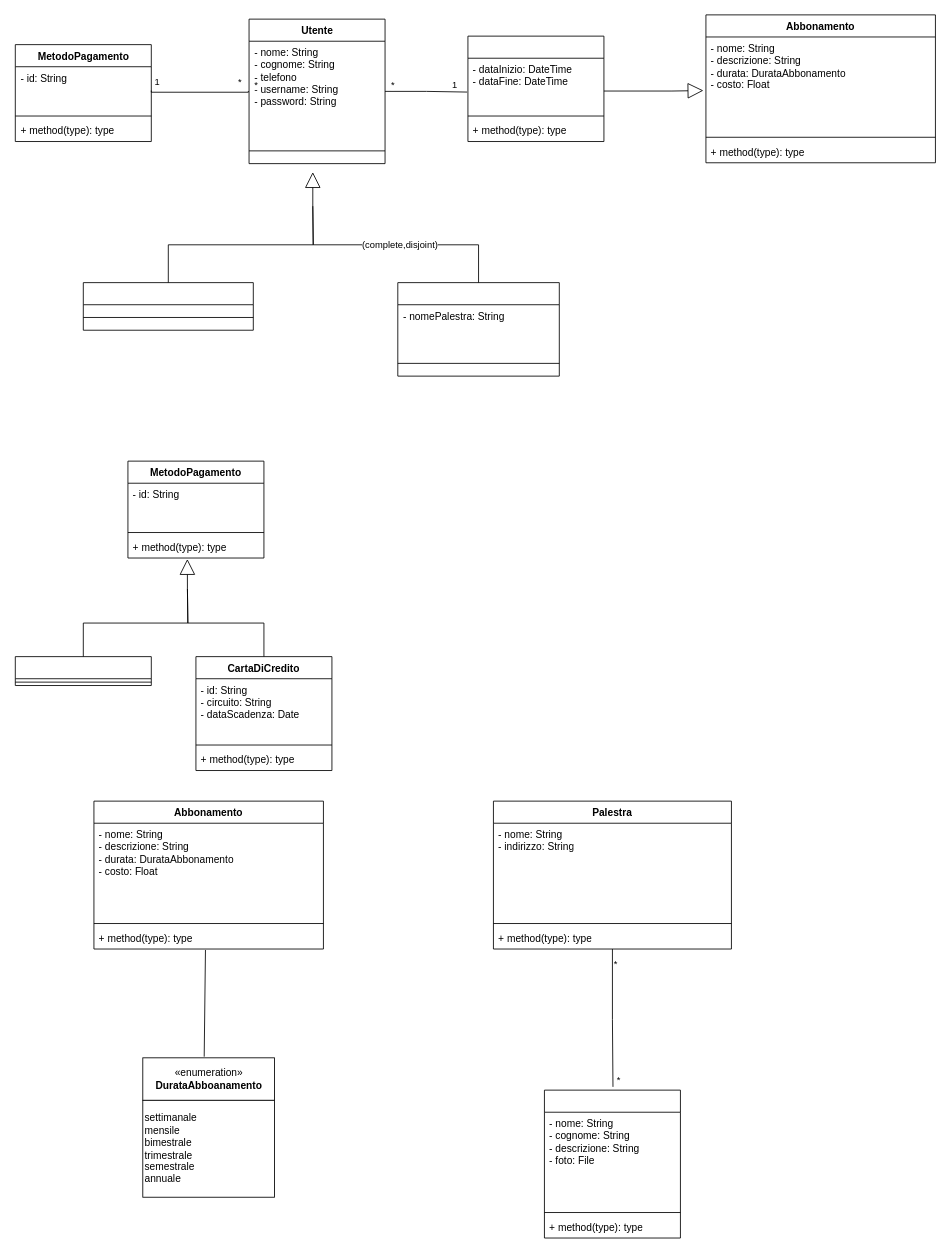
Some shapes in this 950 by 1255 pixel diagram are drawn without their labels. Each missing label, with the box of its shape:
AbbonamentoUtente: (467, 35, 604, 142)
AccountPayPal: (14, 656, 151, 686)
GestorePalestra: (397, 282, 559, 376)
PersonalTrainer: (544, 1089, 680, 1238)
UtenteRegistrato: (82, 282, 253, 330)
